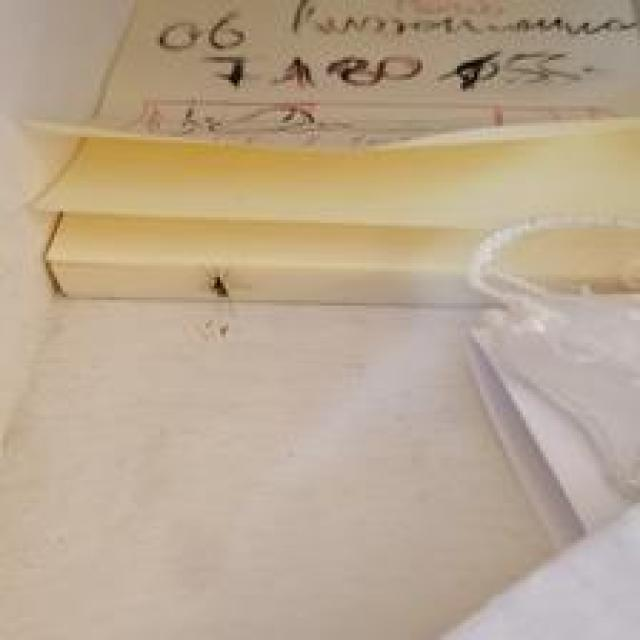Culex: (437, 50, 500, 90)
